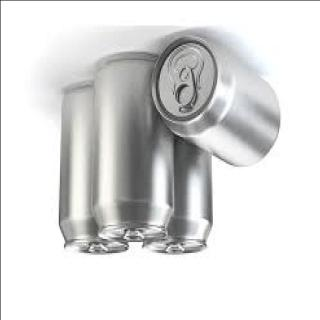Anorganik: (151, 33, 285, 171), (94, 54, 169, 243), (54, 72, 126, 262), (143, 162, 214, 260)
